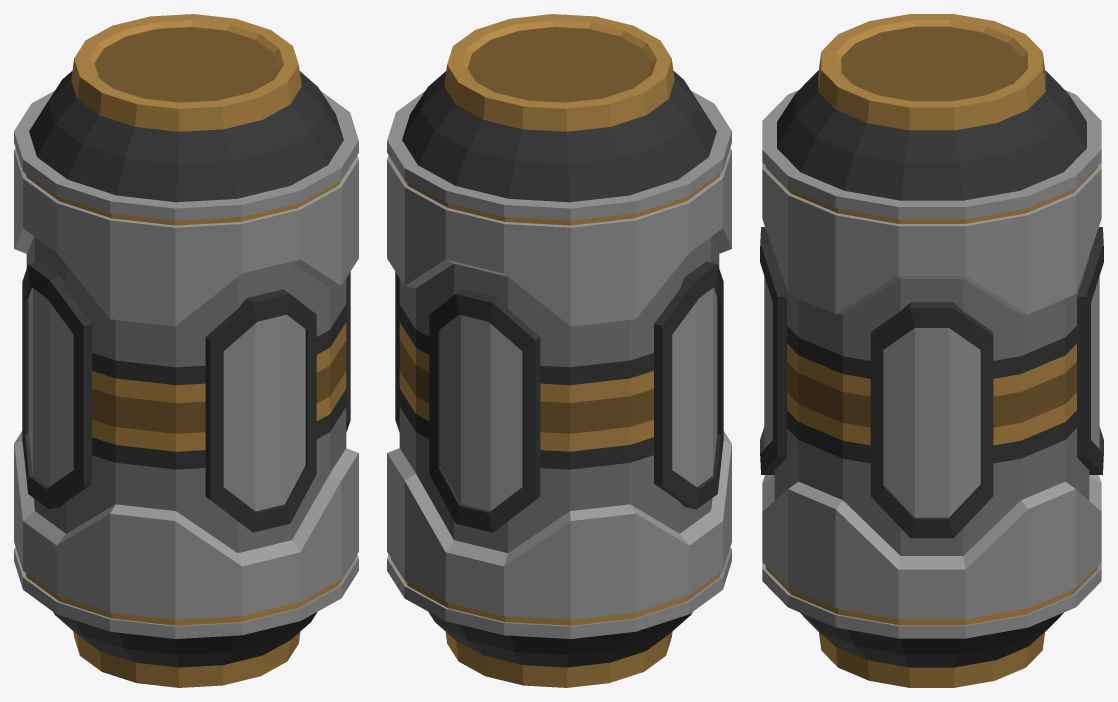
3 renders of one model, left to right at view 1: azimuth 30°, elevation 25°; view 2: azimuth 150°, elevation 25°; view 3: azimuth 270°, elevation 25°, orthographic.
Parts seen in each view (by area): view 1: Props_Capsule; view 2: Props_Capsule; view 3: Props_Capsule.
Boxes of the visible parts, x1,y1,x2,y2 form: Props_Capsule: (14,14,358,687); Props_Capsule: (387,14,731,687); Props_Capsule: (760,14,1103,687).
Bounding box in the file's own units: 0.8693 × 1.62 × 0.8693.
